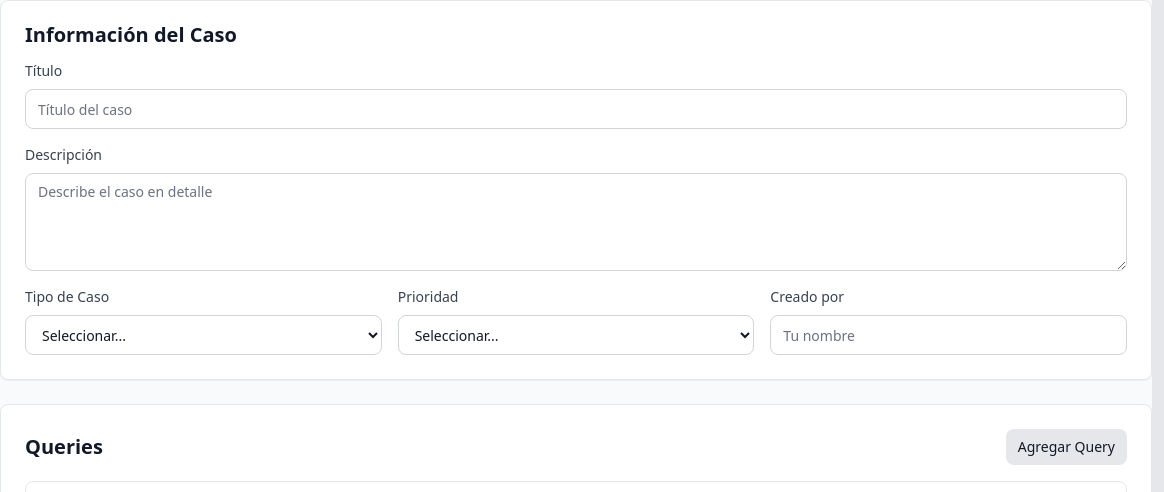
Scenario: CaseForm › maintains query numbering when removing middle query
// Add 3 queries
Click the button "Agregar Query": (1066, 447) [1006, 429, 1127, 465]
(page scrolled)
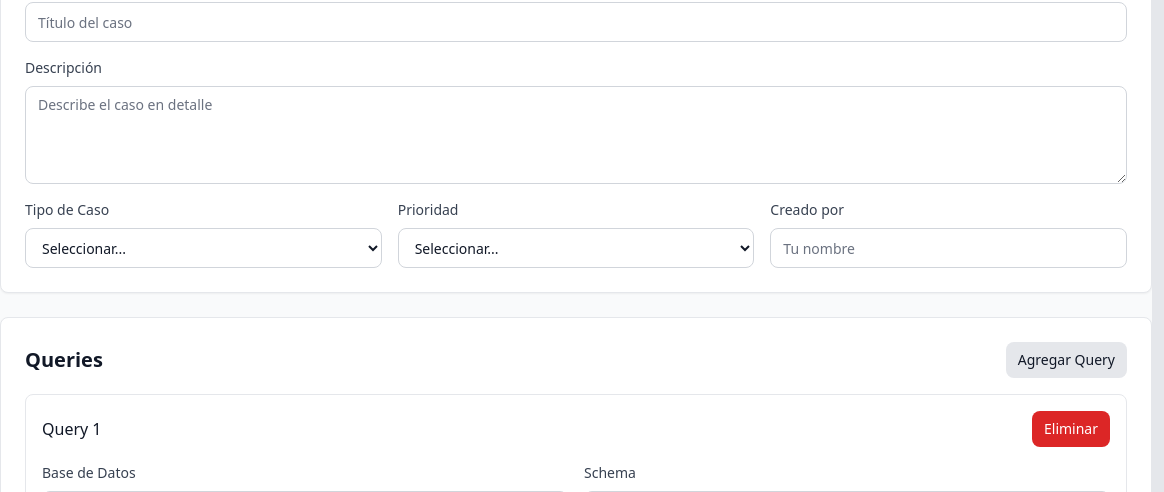
Click the button "Agregar Query": (1066, 360) [1006, 342, 1127, 378]
(page scrolled)
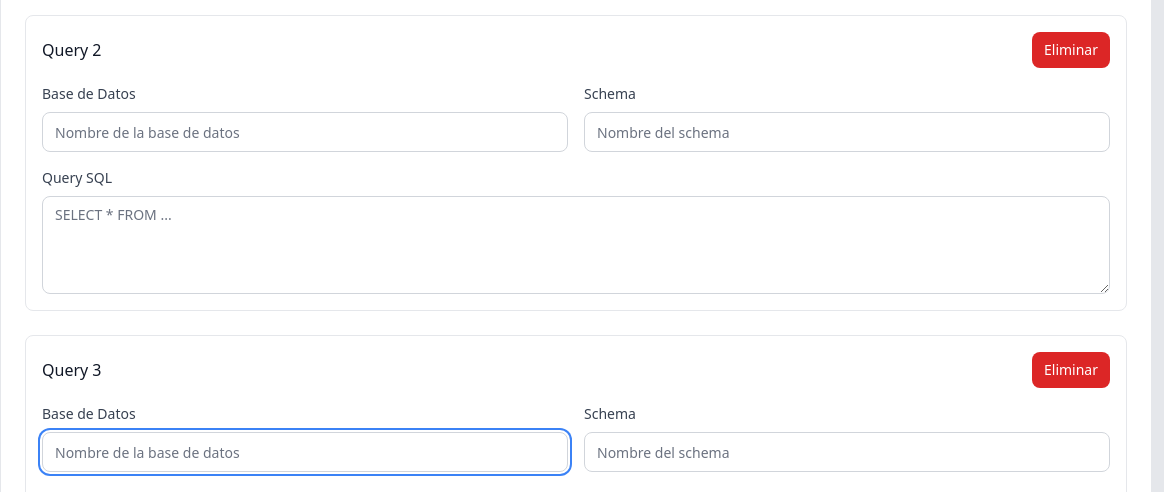
Expected: the heading "Query 2" is shown, [42, 38, 102, 62]
Expected: the heading "Query 3" is shown, [42, 358, 102, 382]
// Remove middle query
Click the 1st button "Eliminar": (1071, 50) [1032, 32, 1110, 68]
(page scrolled)
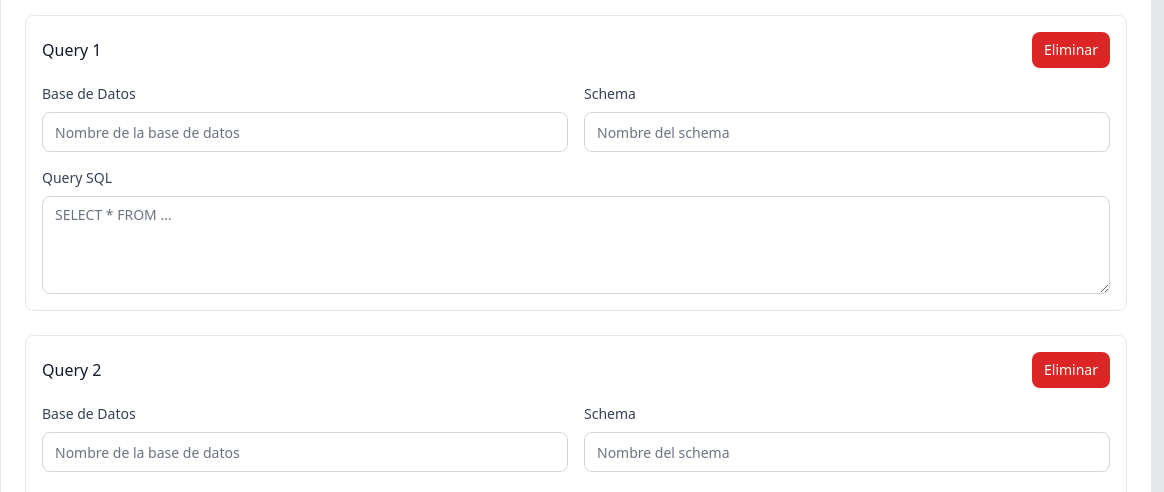
Expected: the heading "Query 1" is shown, [42, 38, 102, 62]
Expected: the heading "Query 2" is shown, [42, 358, 102, 382]
Expected: the heading "Query 3" is gone
